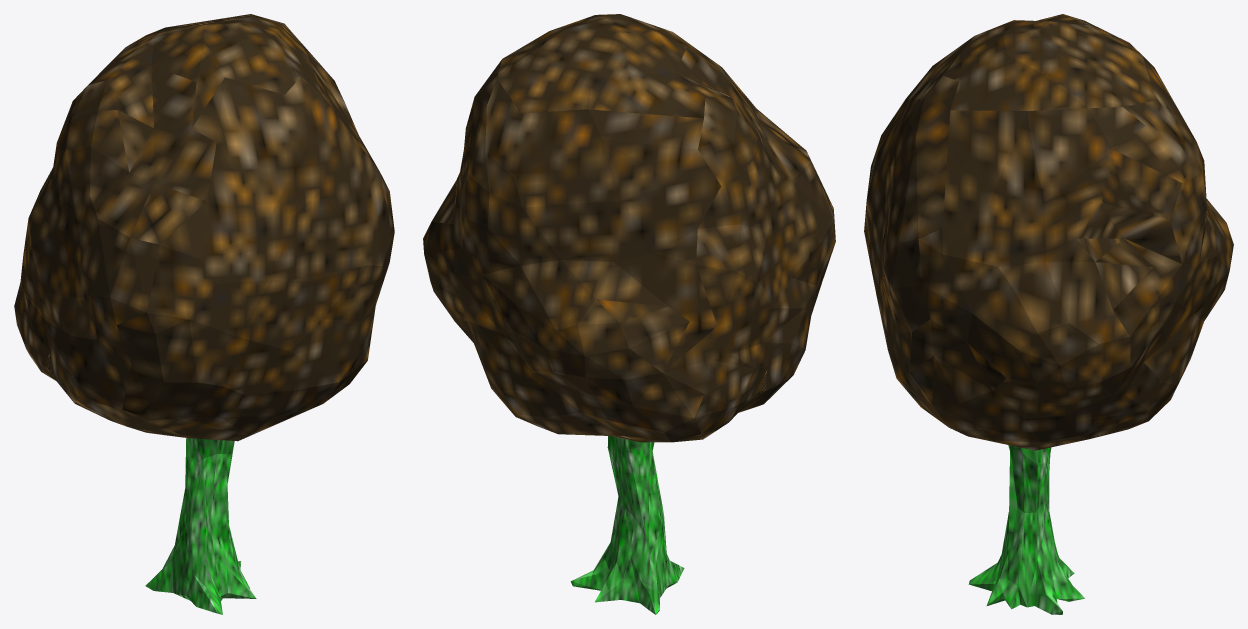
Rendered from Tree1.obj.
3 renders of one model, left to right at view 1: azimuth 30°, elevation 25°; view 2: azimuth 150°, elevation 25°; view 3: azimuth 270°, elevation 25°, orthographic. The views are drawn at different scales.
Visible parts, largest first — view 1: tree1; view 2: tree1; view 3: tree1.
Part boxes in pixels (x1=…): tree1: x1=14, y1=14, x2=394, y2=614; tree1: x1=423, y1=14, x2=835, y2=614; tree1: x1=864, y1=14, x2=1233, y2=614.
Bounding box in the file's own units: 202 × 323 × 186.
1 material, 1 textured.
